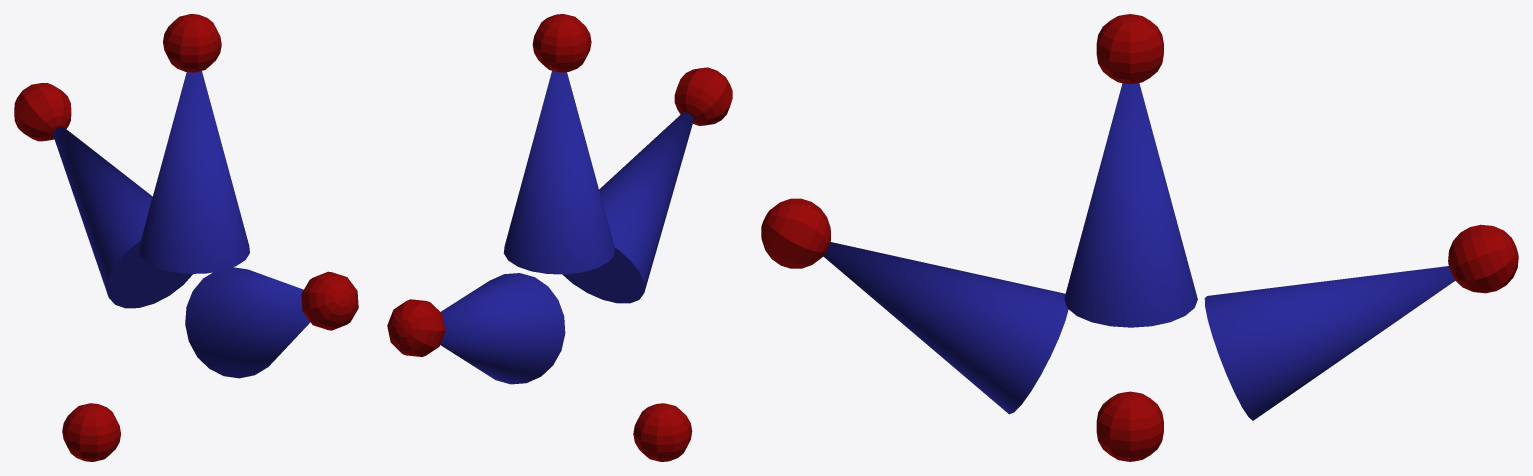
The model's file is clown2.fbx.
The picture shows the model from 3 angles, left to right: view 1: azimuth 30°, elevation 25°; view 2: azimuth 150°, elevation 25°; view 3: azimuth 270°, elevation 25°; orthographic projection. The views are drawn at different scales.
Visible parts, largest first — view 1: pSphere3; view 2: pSphere3; view 3: pSphere3.
Part boxes in pixels (x1,y1,x2,y2): pSphere3: (14,14,358,461); pSphere3: (387,14,732,461); pSphere3: (761,14,1518,461).
Bounding box in the file's own units: 1.6 × 3.57 × 4.89.
